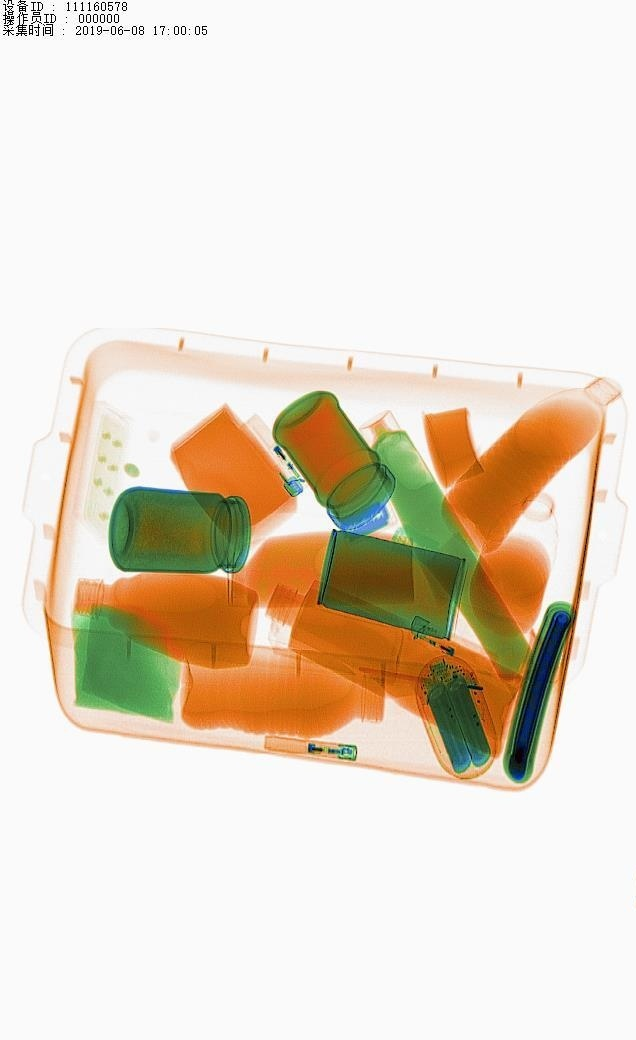NonmetallicFire: (235, 408, 312, 500), (405, 613, 503, 675), (261, 730, 370, 772)
